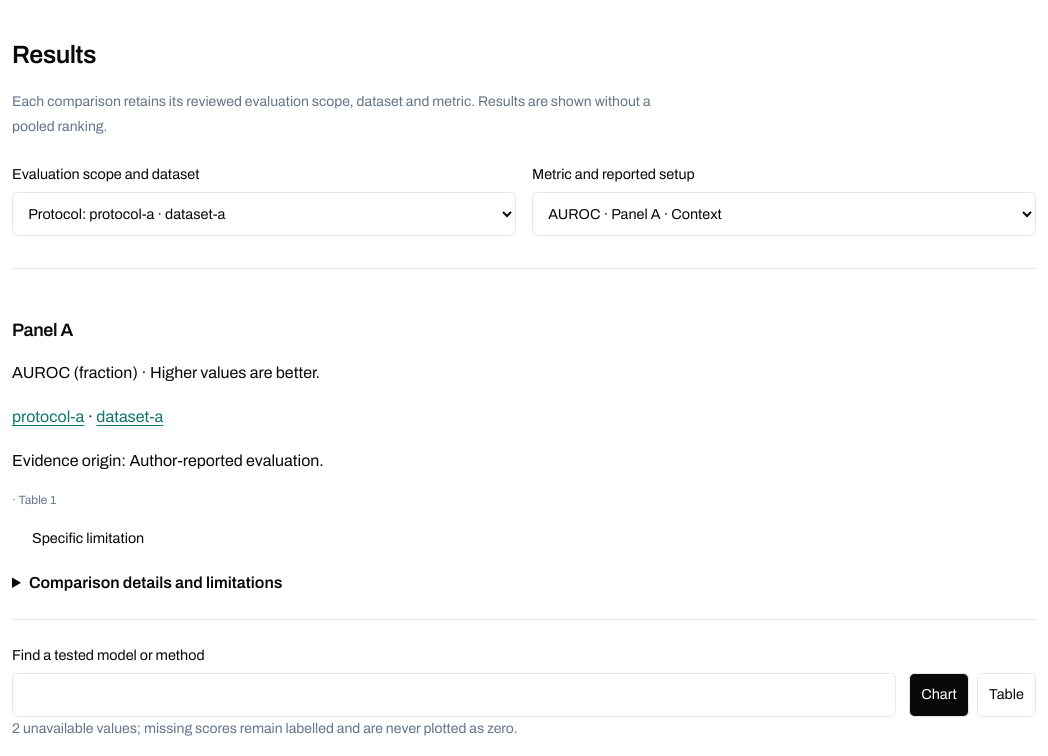
Test: comparison chart controls › retains the last panel when a remote comparison fails and retries
Select "remote" in the dropdown labelled "Metric and reported setup" at (784, 214), box [532,192,1036,236]
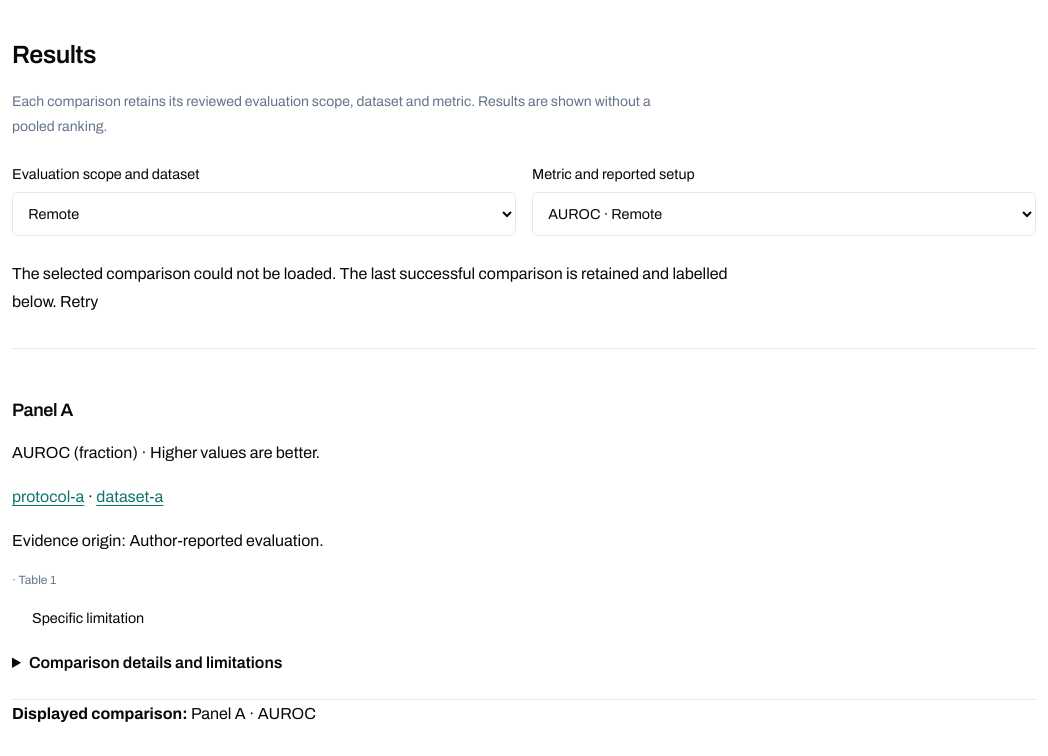
Click the button "Retry".
click(79, 302)  # box [60,288,98,316]
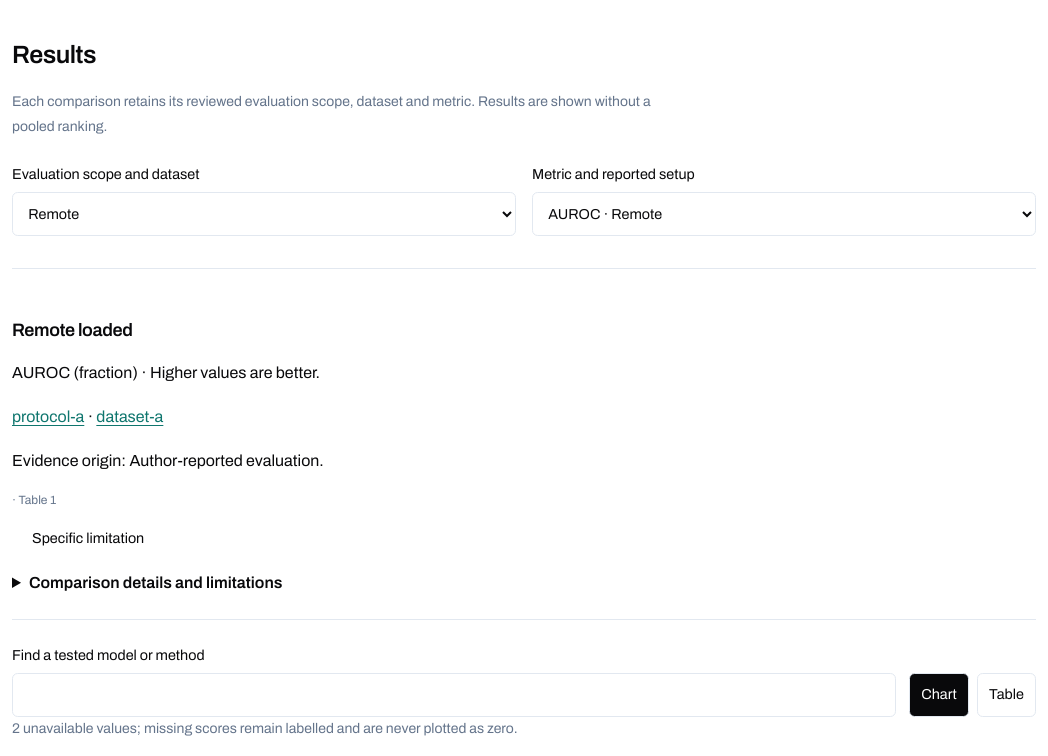
Result: no messages are shown
